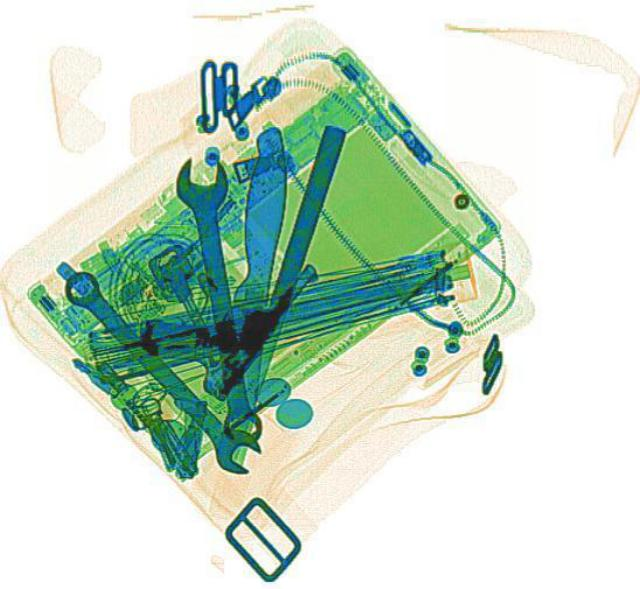Gun: (124, 218, 316, 399)
Knife: (224, 123, 346, 432), (213, 124, 290, 439)
Wrench: (48, 261, 272, 480), (168, 152, 274, 445)
